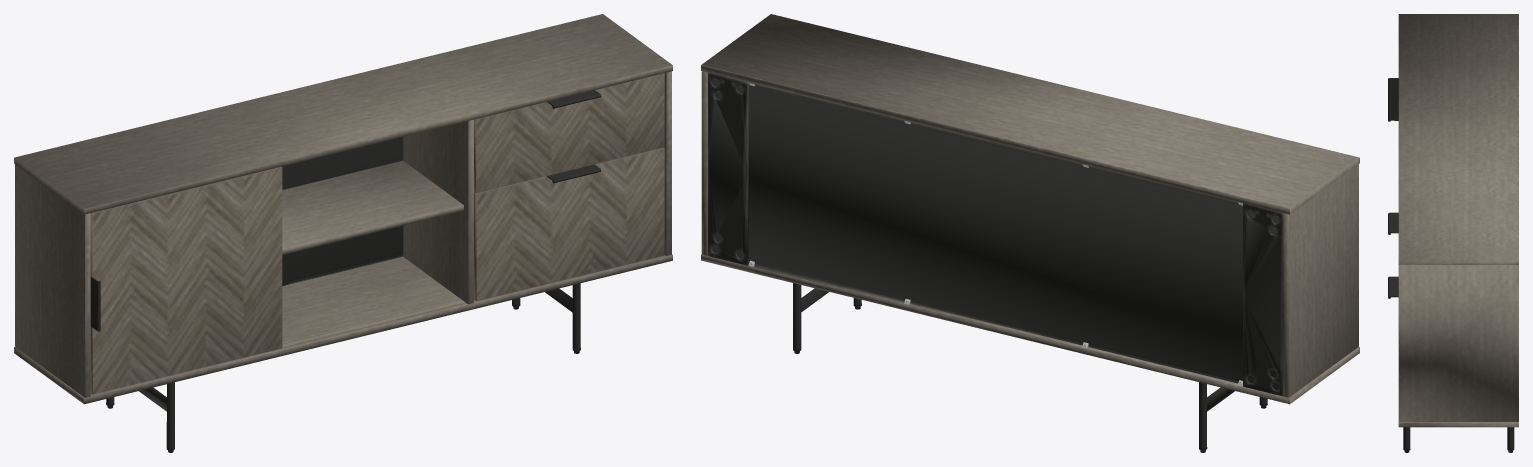
3 views of the same model, side by side, from view 1: azimuth 30°, elevation 25°; view 2: azimuth 150°, elevation 25°; view 3: azimuth 270°, elevation 25° (orthographic). The views are drawn at different scales.
Parts seen in each view (by area): view 1: visual_RootNode; view 2: visual_RootNode; view 3: visual_RootNode.
Boxes of the visible parts, x1,y1,x2,y2 form: visual_RootNode: (14, 14, 672, 452); visual_RootNode: (701, 14, 1359, 452); visual_RootNode: (1388, 14, 1518, 452).
Size of the model in its own units: 1.8 by 0.4053 by 0.7869.
Materials: 1 (1 with a texture image).
